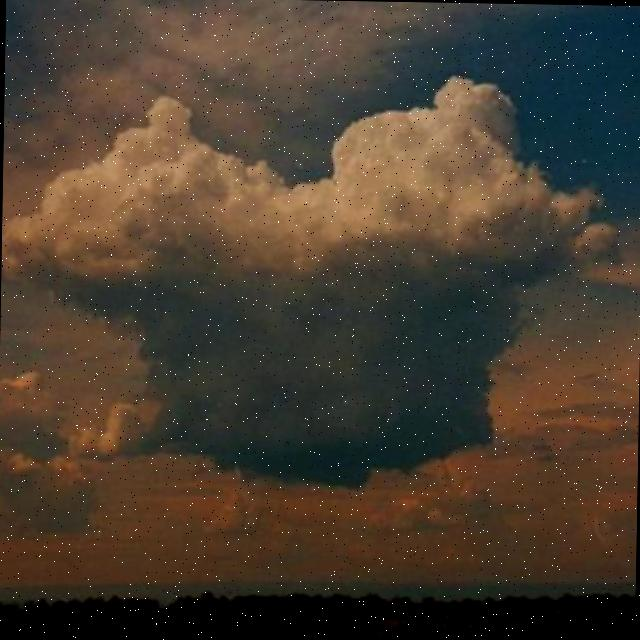Cs: (1, 68, 612, 495)
